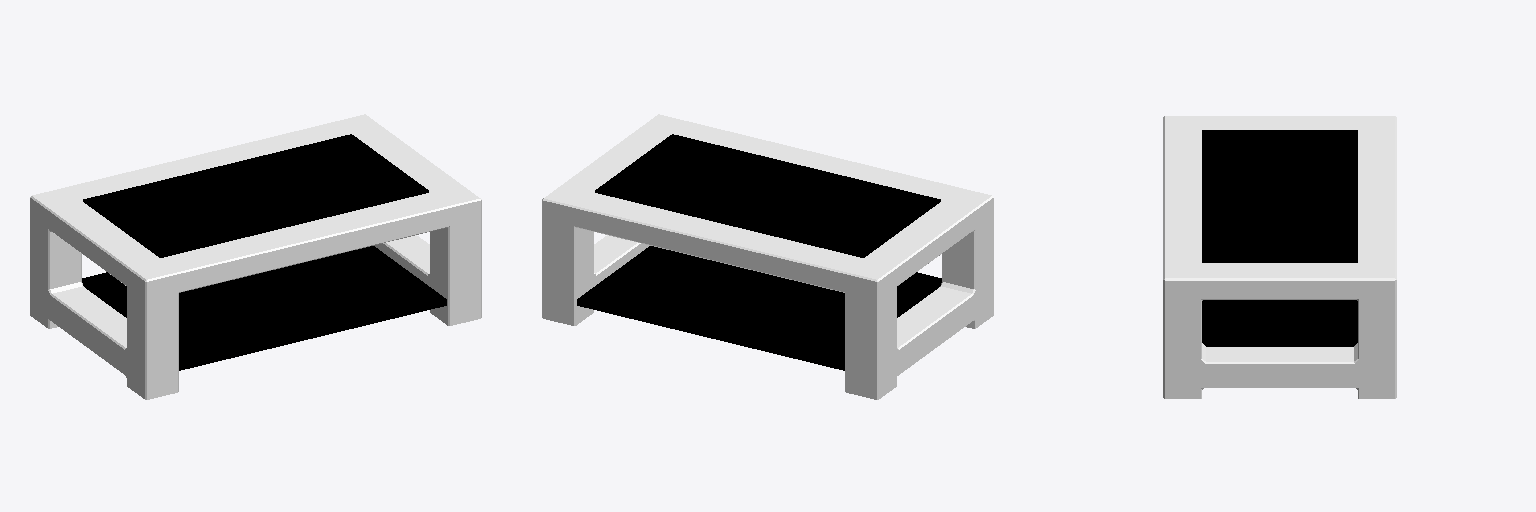
3 renders of one model, left to right at view 1: azimuth 30°, elevation 25°; view 2: azimuth 150°, elevation 25°; view 3: azimuth 270°, elevation 25°, orthographic.
Bounding box in the file's own units: 1 × 0.345 × 0.6.
Materials: 2 (1 with a texture image).